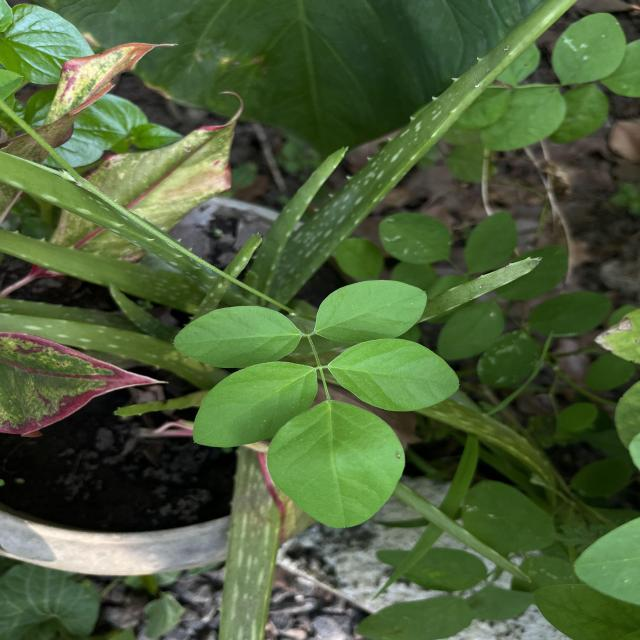Clitoria ternatea: (266, 398, 408, 530), (192, 361, 321, 448), (326, 338, 460, 412), (172, 304, 304, 369), (313, 278, 428, 344)
